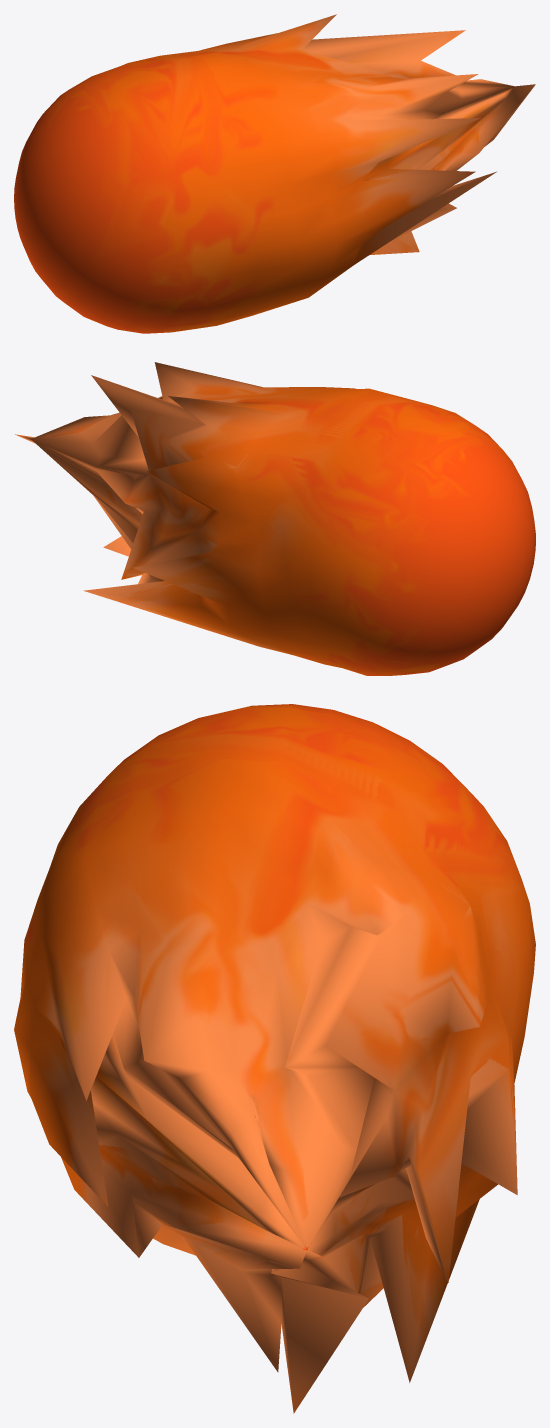
Rendered from Bala.fbx.
3 views of the same model, one above another, from view 1: azimuth 30°, elevation 25°; view 2: azimuth 150°, elevation 25°; view 3: azimuth 270°, elevation 25° (orthographic). The views are drawn at different scales.
Visible parts, largest first — view 1: Bala.001; view 2: Bala.001; view 3: Bala.001.
Part boxes in pixels (<box>): Bala.001: <box>14,14,535,333</box>; Bala.001: <box>15,362,535,675</box>; Bala.001: <box>14,704,535,1413</box>.
Size of the model in its own units: 9.73 by 4.69 by 4.79.
